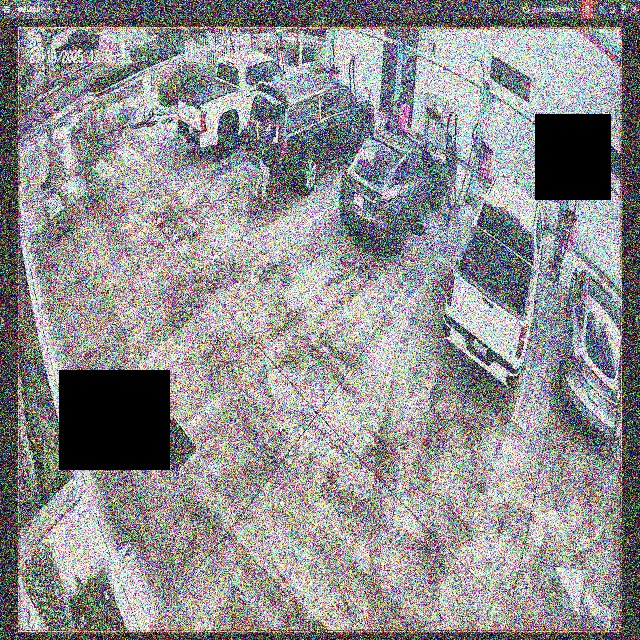Car: (441, 173, 546, 389), (245, 79, 375, 192), (338, 126, 447, 252), (177, 53, 304, 155)
